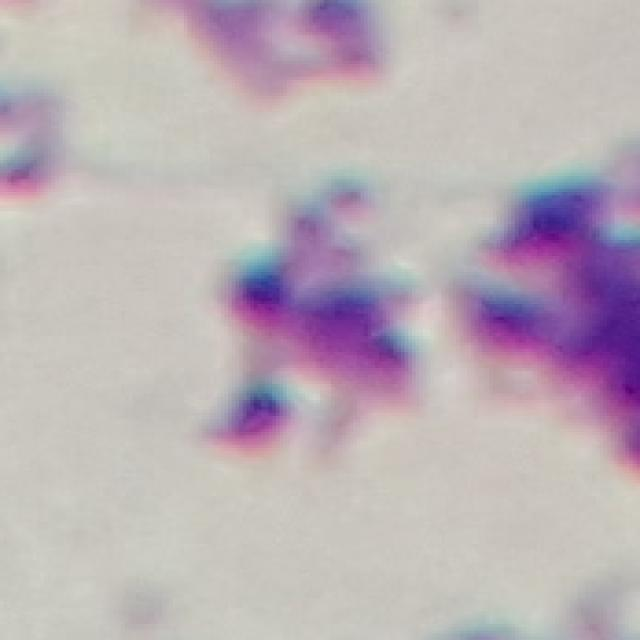non-sperm: (210, 178, 428, 453)
